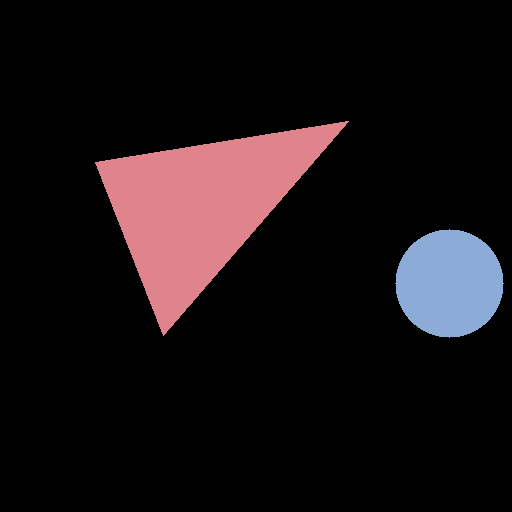circle: (395, 229, 503, 337)
triangle: (95, 121, 348, 335)
